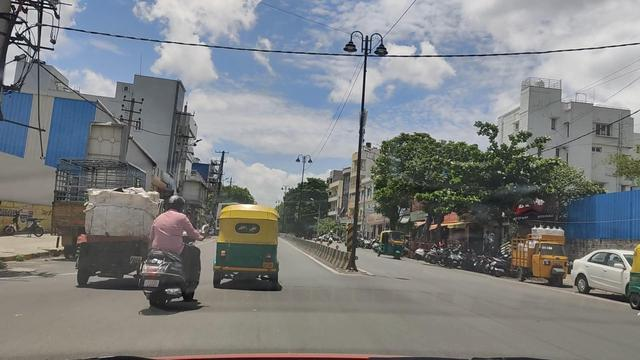LMV: (87, 186, 150, 290), (152, 193, 203, 315), (218, 206, 284, 295)
